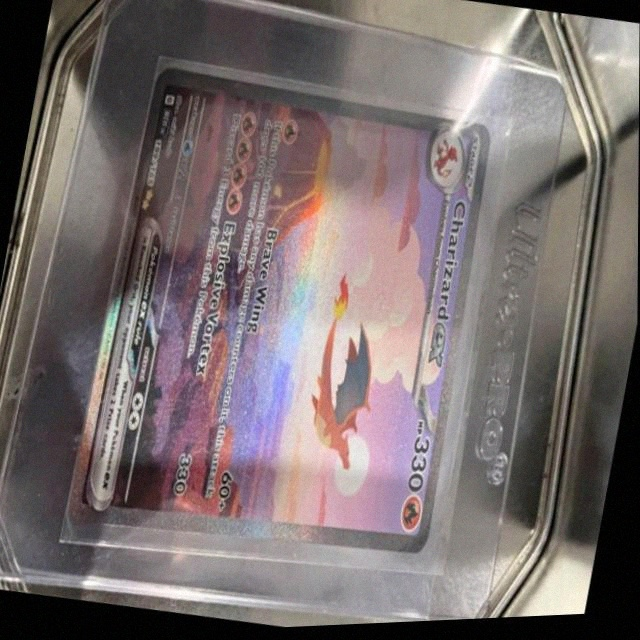card: (67, 67, 490, 560)
